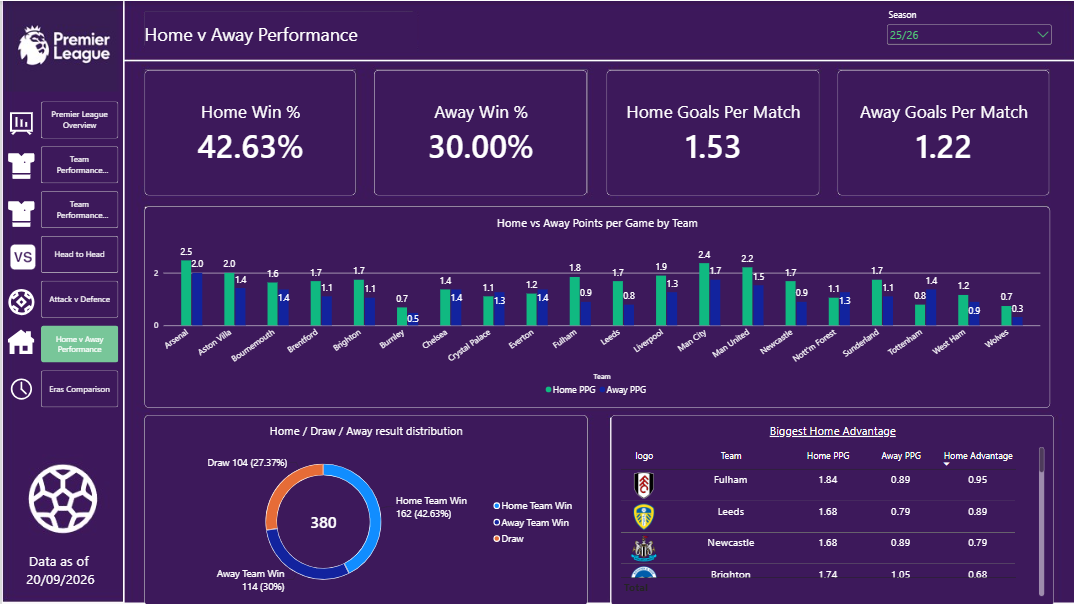

The dashboard page shown, as its layout file describes it:
{"tool":"powerbi","page":{"name":"Home v Away Performance","canvas":[1920,1080],"ordinal":5},"visuals":[{"type":"pageNavigator","box":[69.2,180.3,138.3,550.8],"z":0},{"type":"image","box":[0,271.7,69.2,46.9],"z":1000},{"type":"image","box":[0,355.7,69.2,46.9],"z":2000},{"type":"image","box":[0,195.1,69.2,46.9],"z":3000},{"type":"image","box":[0,513.8,69.2,46.9],"z":4000},{"type":"image","box":[0,586.5,68.6,46.7],"z":5000},{"type":"slicer","fields":{"Values":["dim_season.season_name"]},"box":[1573.4,12.7,304.5,82.9],"z":7000},{"type":"textbox","box":[253.3,18.4,486.7,72.2],"z":8000},{"type":"cardVisual","fields":{"Data":["MATCH_RESULTS.Home Win %"]},"box":[253.7,123.5,377.2,225],"z":9000},{"type":"cardVisual","fields":{"Data":["MATCH_RESULTS.Away Win %"]},"box":[664.8,123.5,380.6,225],"z":10000},{"type":"cardVisual","fields":{"Data":["MATCH_RESULTS.Home Goals Per Match"]},"box":[1079.3,123.5,380.6,225],"z":11000},{"type":"cardVisual","fields":{"Data":["MATCH_RESULTS.Away Goals Per Match"]},"box":[1492,123.5,378.9,225],"z":12000},{"type":"clusteredColumnChart","title":"Home vs Away Points per Game by Team","fields":{"Category":["dim_team.team_name"],"Y":["MATCH_RESULTS.Home PPG","MATCH_RESULTS.Away PPG"]},"box":[255.2,365.5,1616.5,359.2],"z":15001},{"type":"donutChart","title":"Home / Draw / Away result distribution","fields":{"Category":["MATCH_RESULTS.Full time result label"],"Y":["Count(MATCH_RESULTS.match_id)"]},"box":[254.4,738.5,790.4,340.9],"z":15002},{"type":"tableEx","title":"Biggest Home Advantage","fields":{"Values":["dim_team.logo","dim_team.team_name","MATCH_RESULTS.Home PPG","MATCH_RESULTS.Away PPG","MATCH_RESULTS.Home Advantage"]},"box":[1086.8,738.5,790.4,340.9],"z":15003},{"type":"image","box":[2.5,434.7,69.2,46.9],"z":15004},{"type":"textbox","box":[2.5,983.8,203.9,96.9],"z":15005},{"type":"image","box":[0,669.4,69.2,46.9],"z":15006}]}

Visuals, with their boxes on the page's 1920x1080 design canvas (x1, y1, x2, y2). These are canvas units, not pixel positions in the 1074x604 screenshot, which may show the page scaled, cropped or inside an application window:
pageNavigator: {"left": 69, "top": 180, "right": 208, "bottom": 731}
image: {"left": 0, "top": 272, "right": 69, "bottom": 319}
image: {"left": 0, "top": 356, "right": 69, "bottom": 403}
image: {"left": 0, "top": 195, "right": 69, "bottom": 242}
image: {"left": 0, "top": 514, "right": 69, "bottom": 561}
image: {"left": 0, "top": 586, "right": 69, "bottom": 633}
slicer - dim_season.season_name: {"left": 1573, "top": 13, "right": 1878, "bottom": 96}
textbox: {"left": 253, "top": 18, "right": 740, "bottom": 91}
cardVisual - MATCH_RESULTS.Home Win %: {"left": 254, "top": 124, "right": 631, "bottom": 348}
cardVisual - MATCH_RESULTS.Away Win %: {"left": 665, "top": 124, "right": 1045, "bottom": 348}
cardVisual - MATCH_RESULTS.Home Goals Per Match: {"left": 1079, "top": 124, "right": 1460, "bottom": 348}
cardVisual - MATCH_RESULTS.Away Goals Per Match: {"left": 1492, "top": 124, "right": 1871, "bottom": 348}
"Home vs Away Points per Game by Team" clusteredColumnChart: {"left": 255, "top": 366, "right": 1872, "bottom": 725}
"Home / Draw / Away result distribution" donutChart: {"left": 254, "top": 738, "right": 1045, "bottom": 1079}
"Biggest Home Advantage" tableEx: {"left": 1087, "top": 738, "right": 1877, "bottom": 1079}
image: {"left": 2, "top": 435, "right": 72, "bottom": 482}
textbox: {"left": 2, "top": 984, "right": 206, "bottom": 1081}
image: {"left": 0, "top": 669, "right": 69, "bottom": 716}
